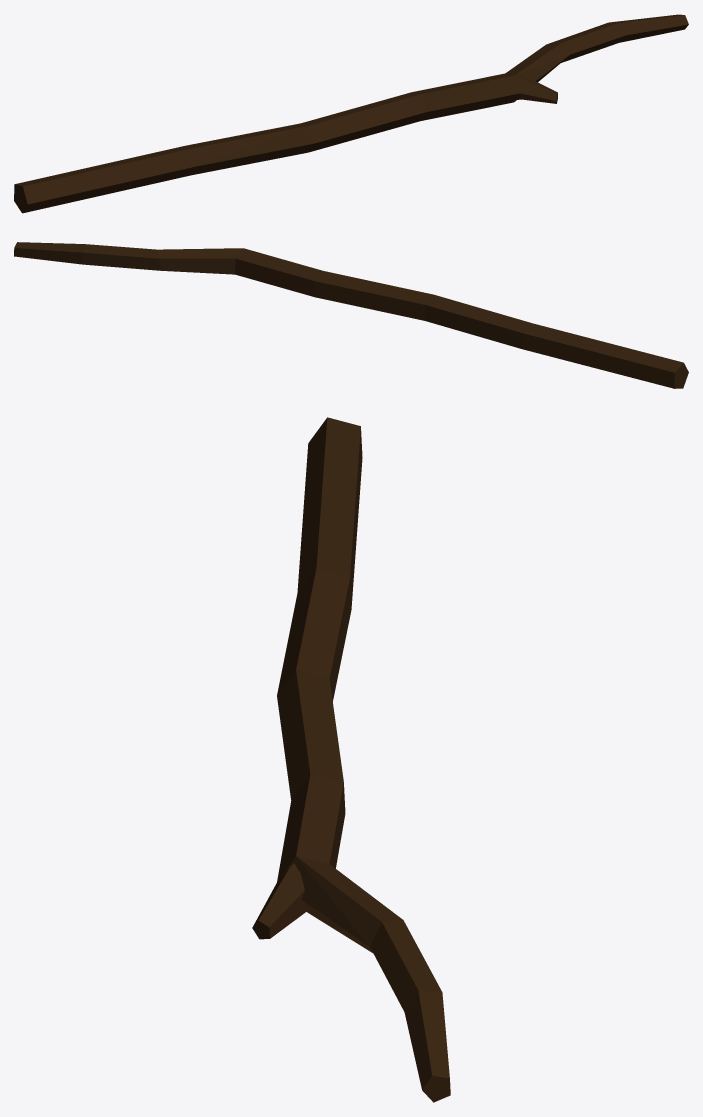
The model's file is Galaz_6.fbx.
The picture shows the model from 3 angles, top to bottom: view 1: azimuth 30°, elevation 25°; view 2: azimuth 150°, elevation 25°; view 3: azimuth 270°, elevation 25°; orthographic projection. The views are drawn at different scales.
Visible parts, largest first — view 1: Galaz_6_LOD0; view 2: Galaz_6_LOD0; view 3: Galaz_6_LOD0.
Part boxes in pixels (x1,y1,x2,y2): Galaz_6_LOD0: [14, 14, 688, 213]; Galaz_6_LOD0: [14, 242, 688, 388]; Galaz_6_LOD0: [252, 417, 450, 1102].
Size of what is drawn, in the model's own units: 1343 by 60.3 by 180.
